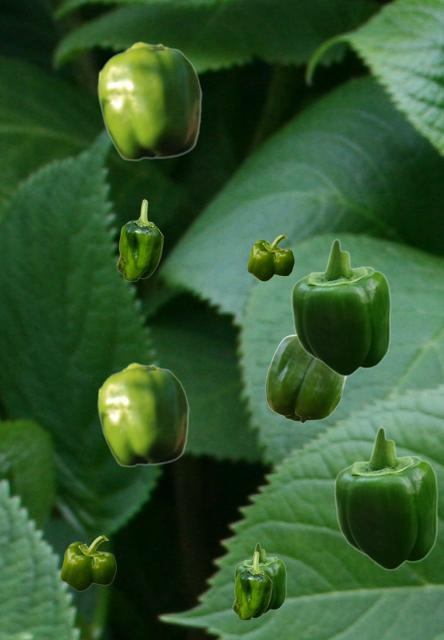bell_pepper: (333, 426, 437, 570), (290, 238, 390, 376), (97, 41, 201, 160), (97, 362, 188, 466), (265, 334, 347, 422), (116, 199, 162, 280), (234, 542, 285, 613), (60, 535, 115, 590), (232, 551, 271, 619), (247, 234, 293, 280)
